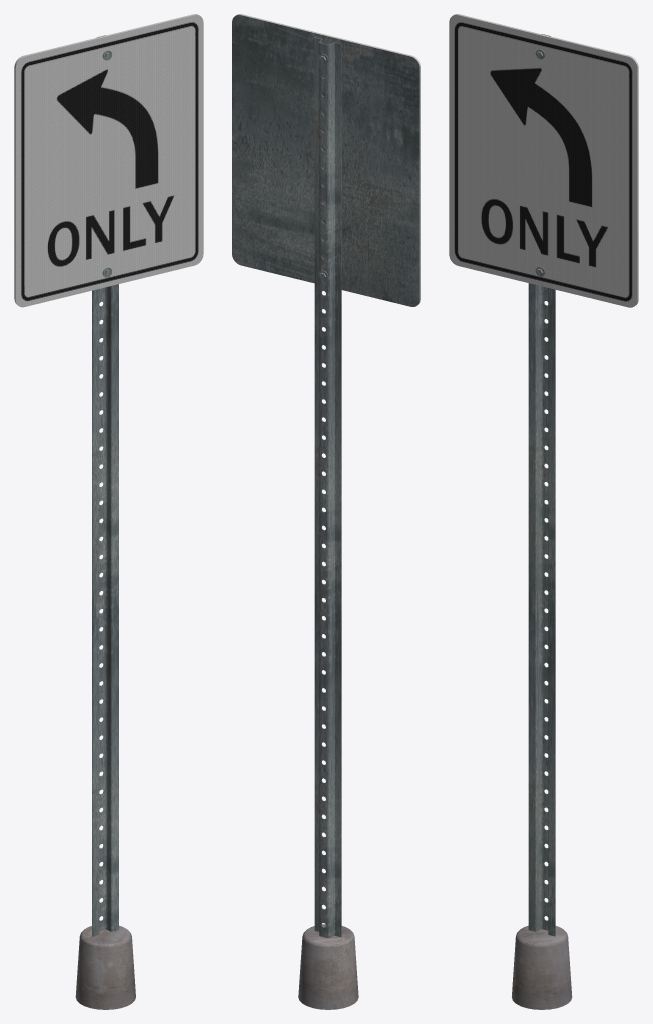
Rendered from leftturnonly_nsoc.obj.
The picture shows the model from 3 angles, left to right: view 1: azimuth 30°, elevation 25°; view 2: azimuth 150°, elevation 25°; view 3: azimuth 330°, elevation 25°; orthographic projection.
Parts seen in each view (by area): view 1: sign_arrows_8; view 2: sign_arrows_8; view 3: sign_arrows_8.
Part boxes in pixels (x1,y1,x2,y2): sign_arrows_8: (14, 14, 203, 1009); sign_arrows_8: (232, 14, 420, 1009); sign_arrows_8: (449, 14, 638, 1009).
Bounding box in the file's own units: 21 × 103 × 5.84.
3 materials, 3 textured.
